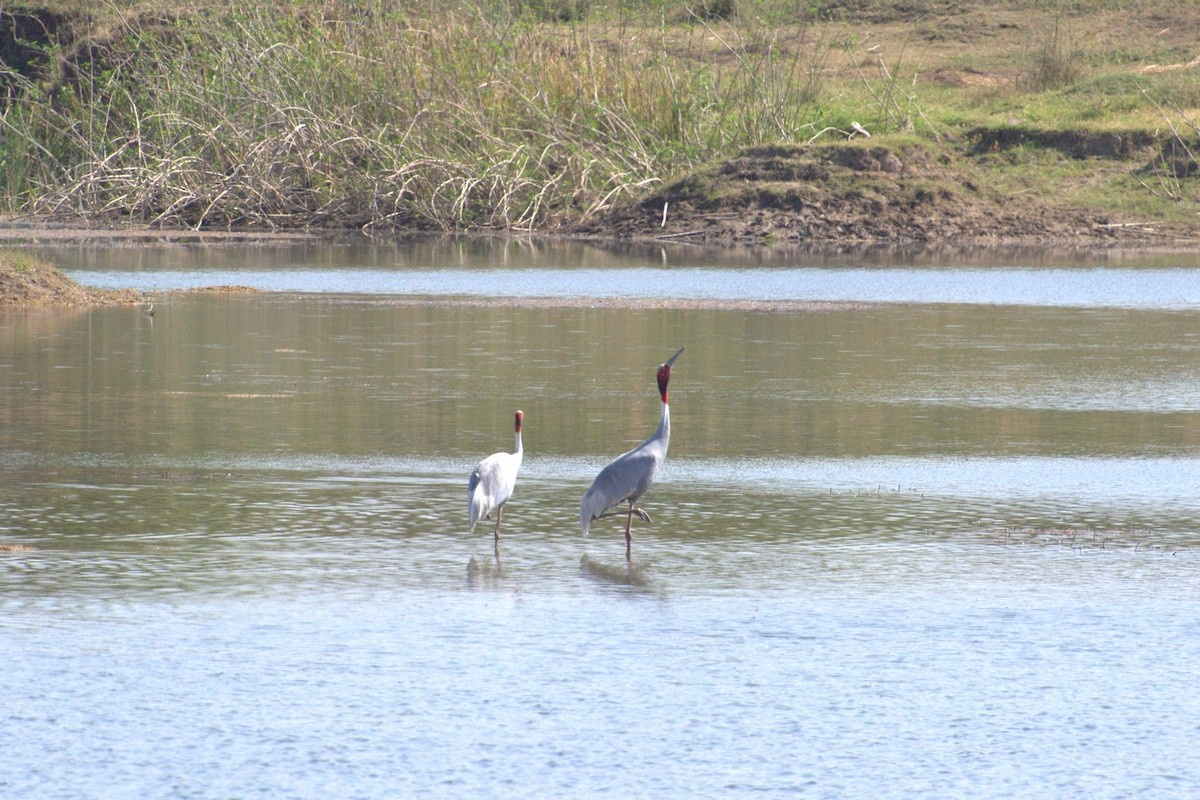crane: (577, 343, 697, 570), (461, 406, 535, 558)
